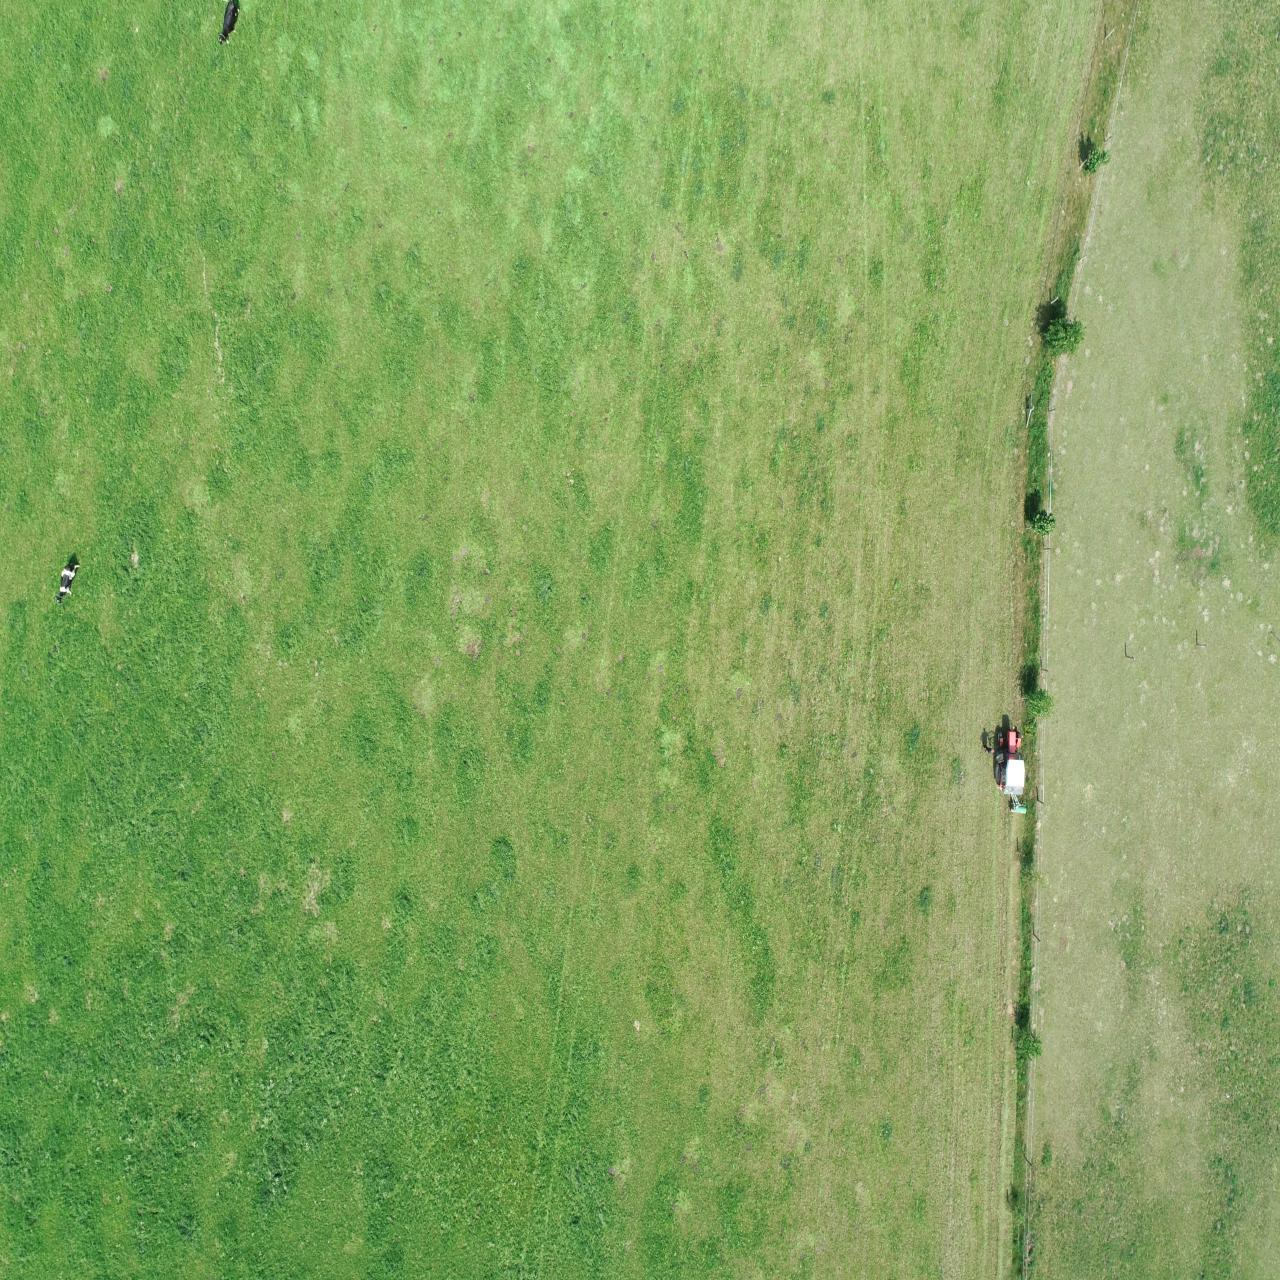cow: (214, 0, 249, 53), (51, 556, 84, 606)
